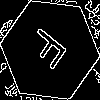F: (25, 25, 76, 77)
